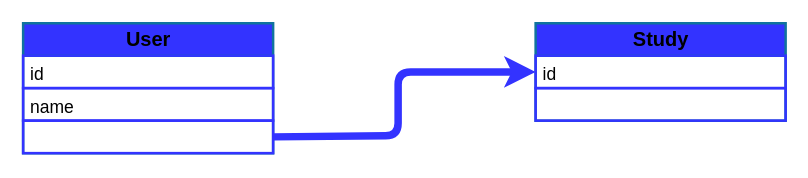
Some shapes in this 808 by 178 pixel diagram are drawn without their labels. Here are the shapes that lost their labels. From the top down, the centre of each, then its label:
At pixel 660 103: "theme".
At pixel 147 136: "last_theme".
